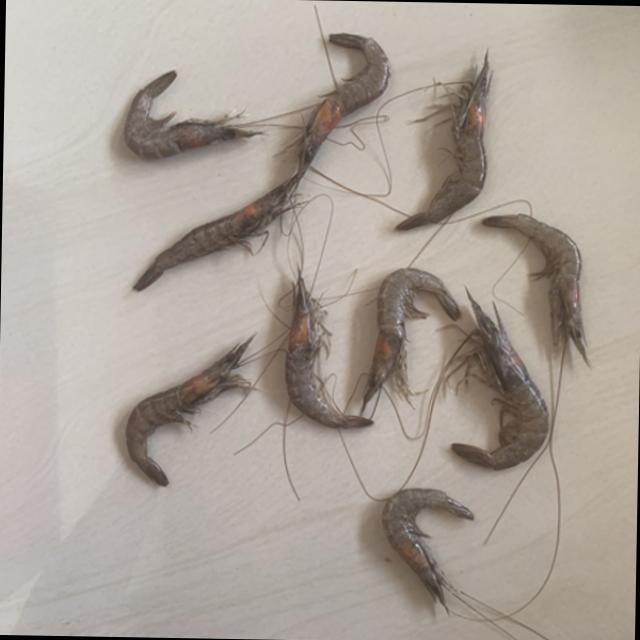shrimp: (132, 174, 296, 292), (124, 337, 251, 487), (451, 289, 548, 470), (395, 51, 491, 230), (484, 215, 588, 365), (296, 32, 391, 188), (361, 268, 460, 414), (284, 274, 373, 429), (124, 70, 257, 157), (382, 491, 473, 612)
